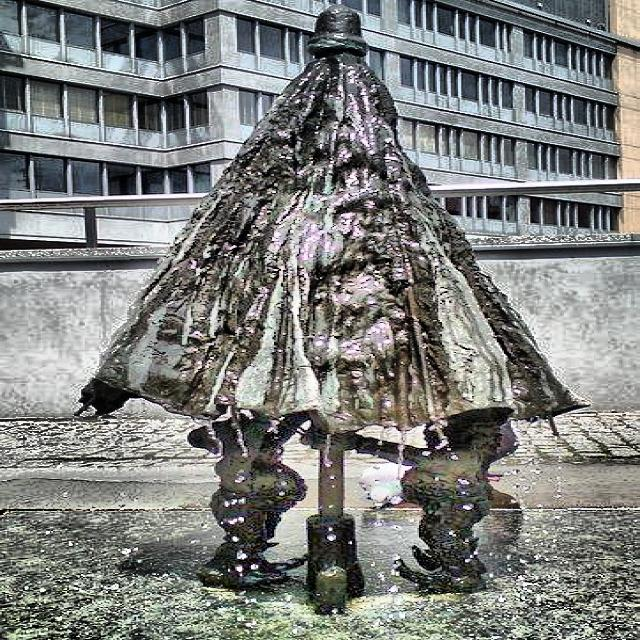Parasolniki: (73, 4, 593, 608)
